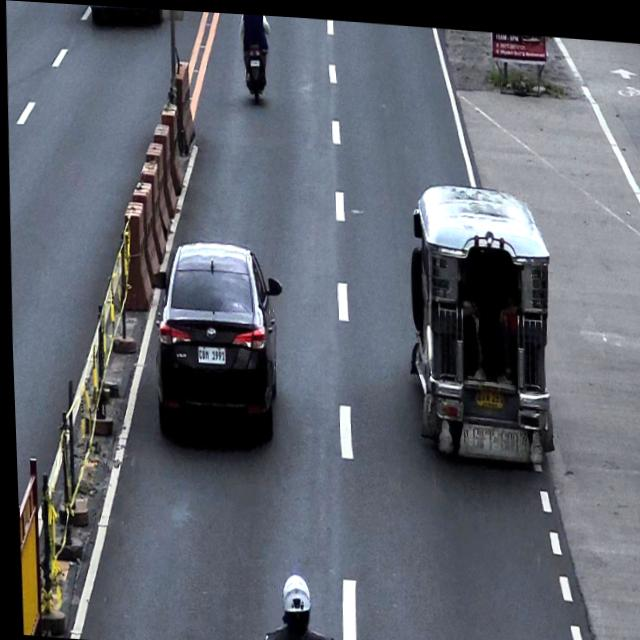Car: (148, 234, 284, 438)
Jeep: (401, 174, 556, 465)
License-Plate: (471, 381, 501, 405), (193, 340, 224, 363), (248, 55, 260, 65)
Motorcycle: (239, 20, 271, 102)
